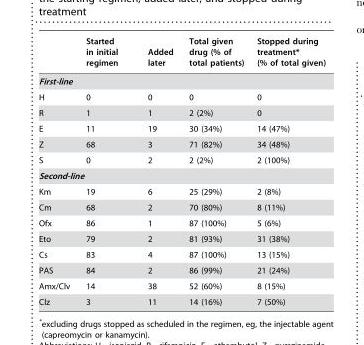table: (37, 36, 325, 306)
table column: (249, 36, 325, 306), (180, 36, 249, 306), (77, 36, 132, 306), (132, 36, 180, 306), (37, 36, 77, 306)
table column header: (37, 36, 325, 71)
table projected row header: (37, 71, 325, 89), (37, 167, 325, 183)
table row: (37, 36, 325, 71), (37, 71, 325, 89), (37, 104, 325, 120), (37, 120, 325, 136), (37, 136, 325, 152), (37, 167, 325, 183), (37, 183, 325, 199), (37, 199, 325, 215), (37, 230, 325, 246), (37, 246, 325, 262), (37, 262, 325, 278), (37, 89, 325, 104), (37, 152, 325, 167), (37, 215, 325, 230), (37, 278, 325, 293), (37, 293, 325, 306)
